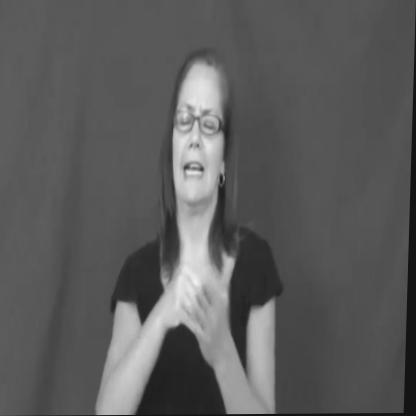Expensive: (151, 229, 246, 391)
